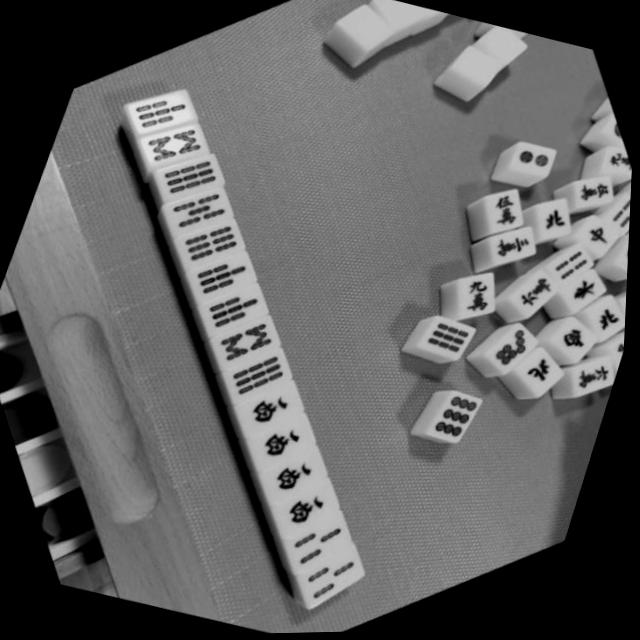hww: (234, 376, 307, 445), (244, 410, 315, 478), (270, 476, 342, 543), (261, 446, 328, 509)
sb3: (273, 502, 364, 587), (290, 539, 376, 620)
sb5: (153, 175, 233, 249)
sb6: (165, 207, 247, 283)
sb7: (178, 238, 259, 314), (116, 72, 196, 148), (192, 273, 272, 347)
sb8: (200, 304, 287, 384), (129, 112, 205, 183)
sb9: (146, 143, 221, 213), (220, 341, 293, 409)
